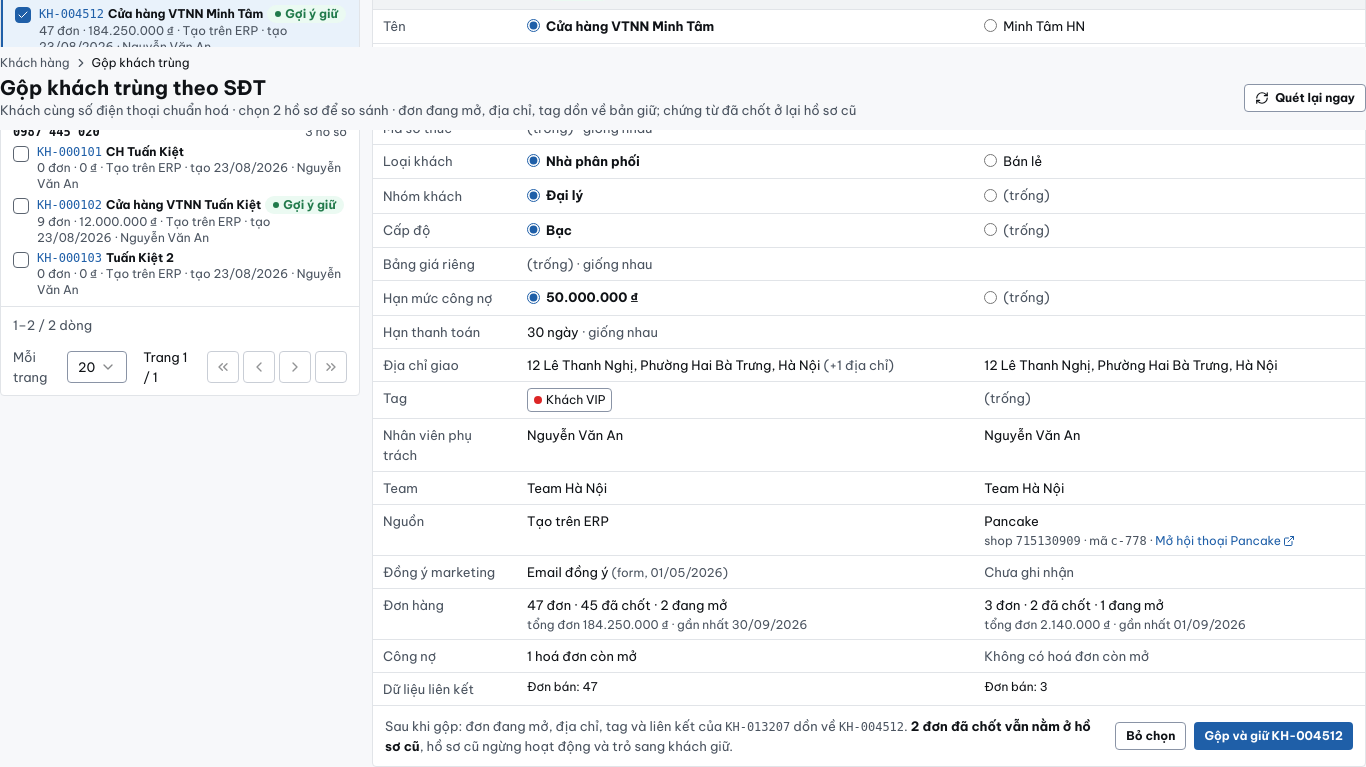
Test case: Gộp khách trùng — so sánh + gộp (CRM-10) › xác nhận → POST /customers/merge với fieldChoices + idempotencyKey → kết quả → hoàn tác
This screenshot has width=1366, height=767.
(page scrolled)
Click the button "Gộp và giữ KH-004512": (1274, 736) [1194,722,1353,750]
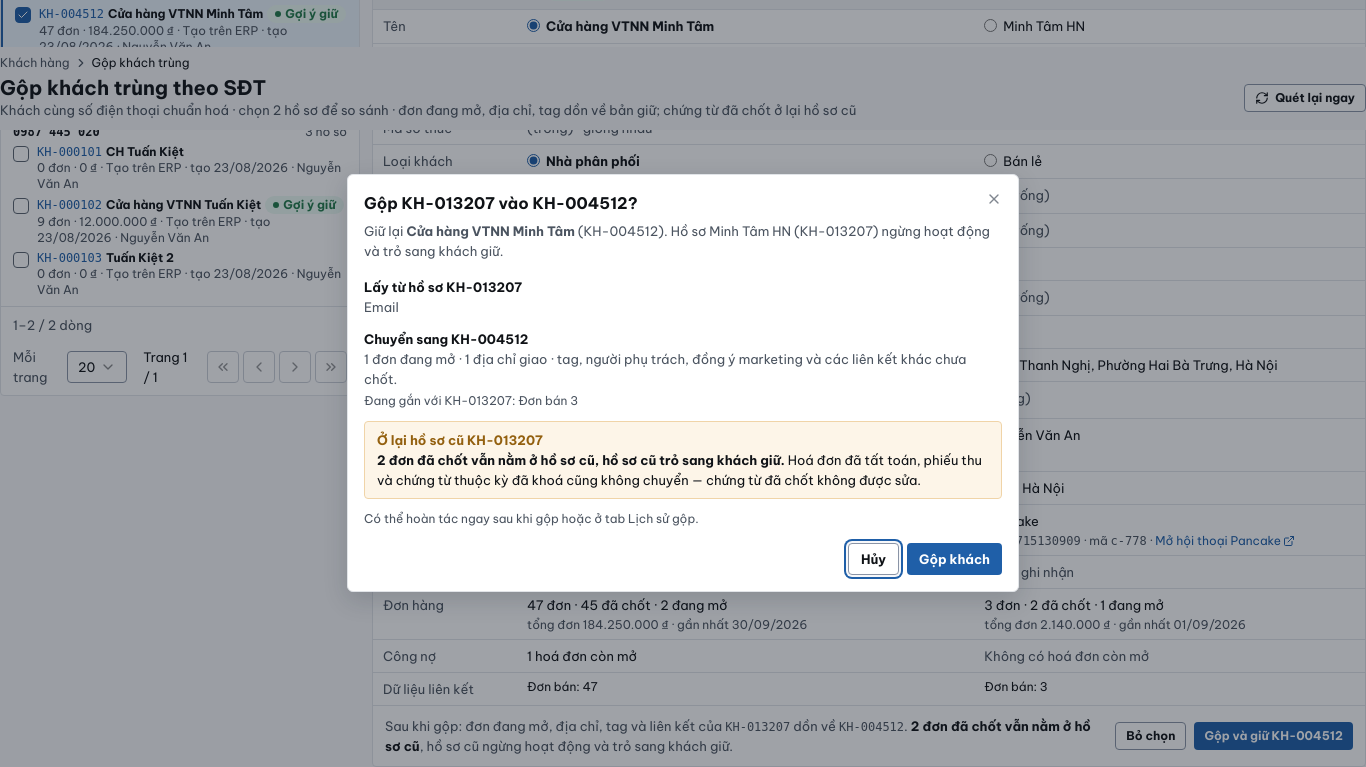
Expected: the heading "Gộp KH-013207 vào KH-004512?" is shown, [364,193,638,213]
Expected: the text "Email" is shown, [364,299,399,315]
Expected: the text "2 đơn đã chốt vẫn nằm ở hồ sơ cũ, hồ sơ cũ trỏ sang khách giữ." is shown, [377,452,785,468]
Click the button "Gộp khách": (955, 559) [907,543,1002,575]
(page scrolled)
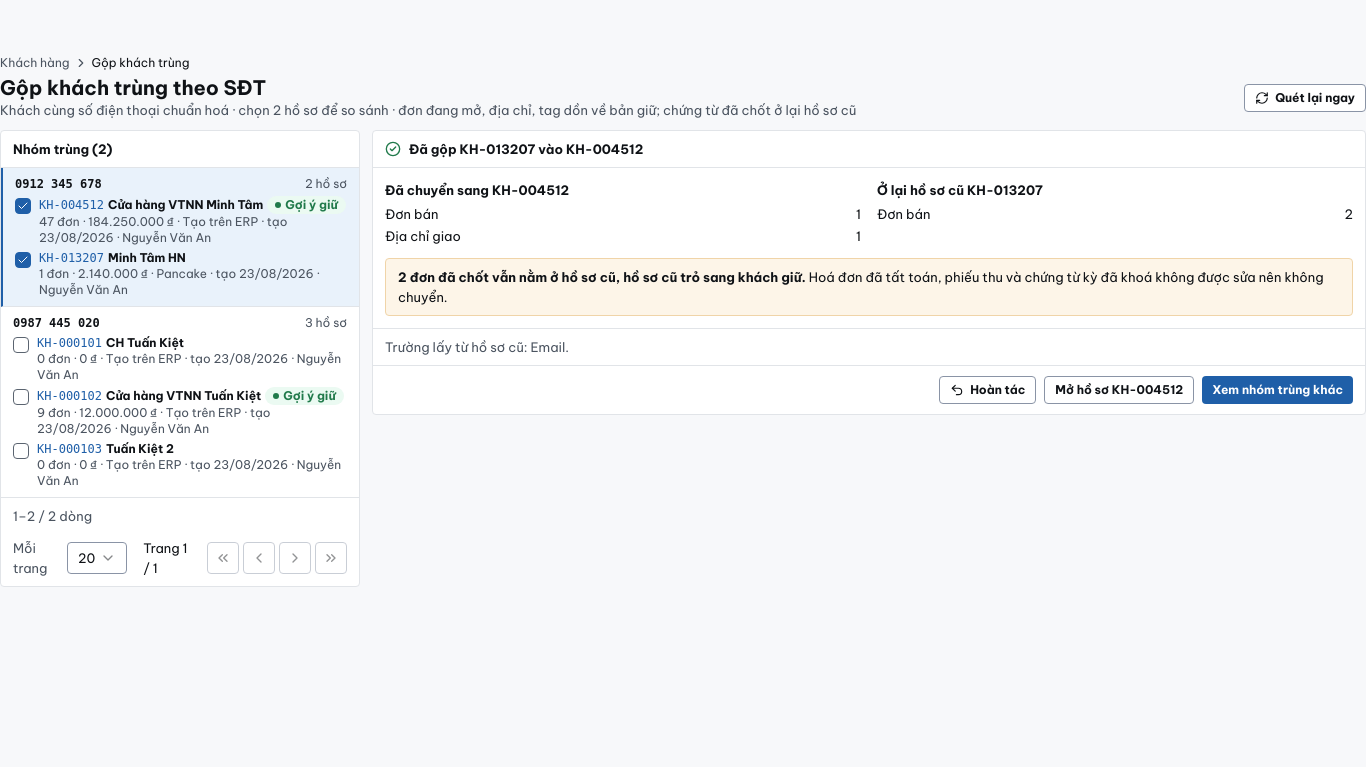
Expected: the text "2 đơn đã chốt vẫn nằm ở hồ sơ cũ, hồ sơ cũ trỏ sang khách giữ." is shown, [398,269,806,285]
Expected: the text "Đã gộp KH-013207 vào KH-004512" is shown, [373,131,1365,168]
Expected: the text "Trường lấy từ hồ sơ cũ: Email." is shown, [373,328,1365,365]
Click the button "Hoàn tác": (988, 390) [939,376,1036,404]
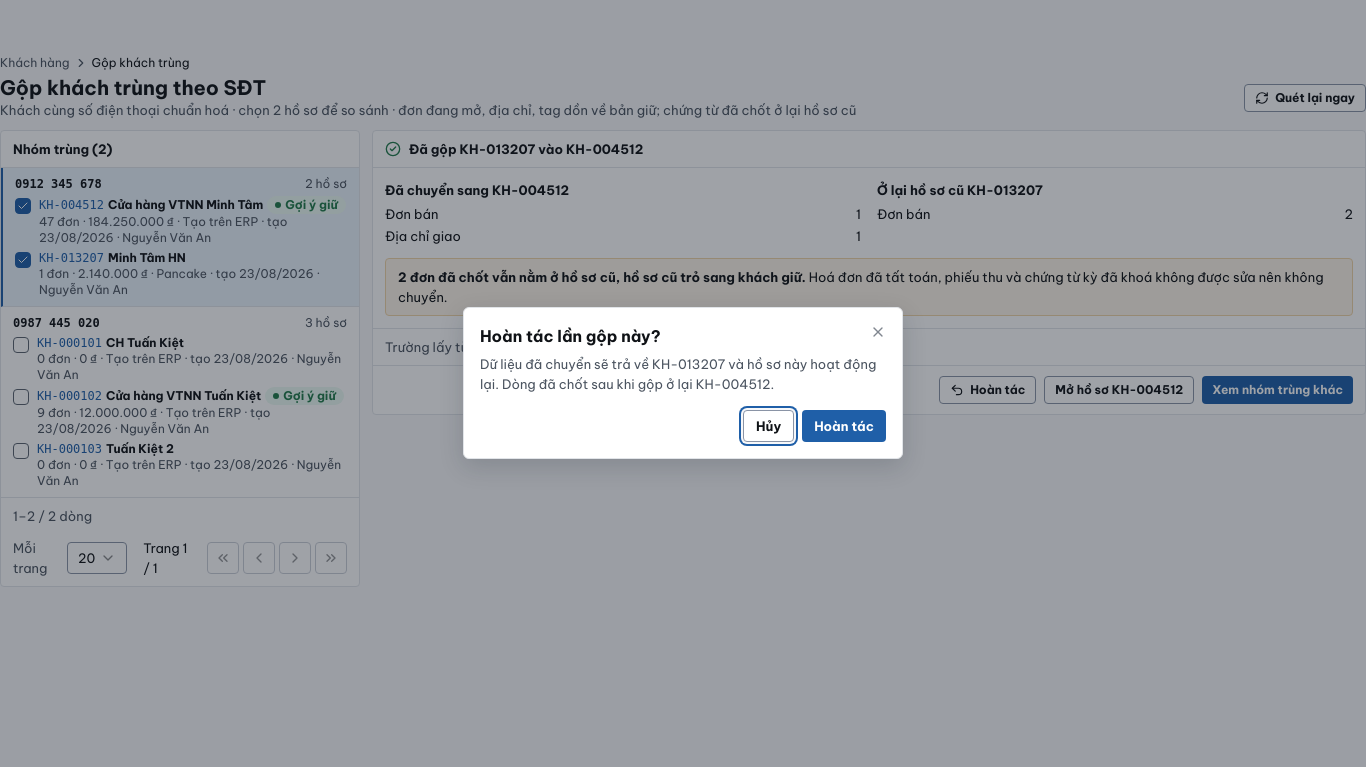
Click the button "Hoàn tác": (844, 426) [802,410,886,442]
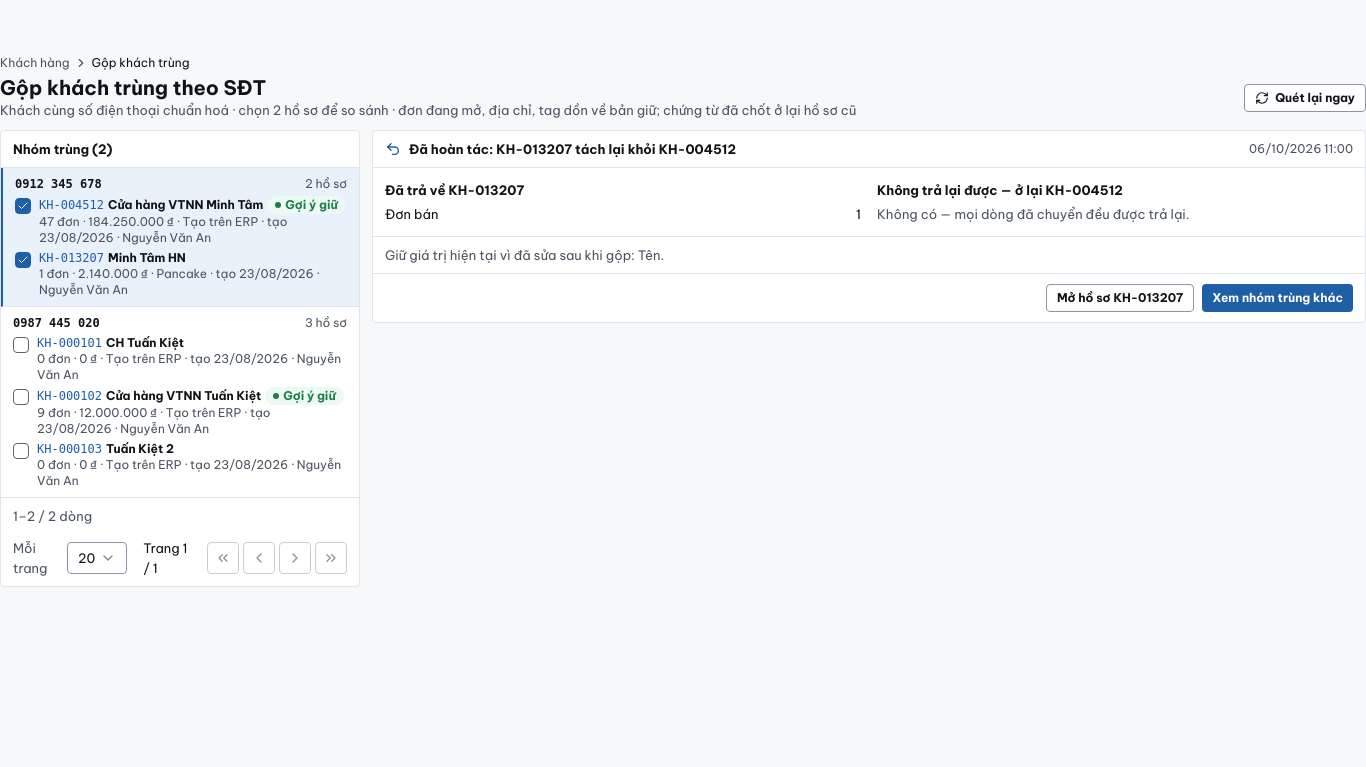
Expected: the text "Giữ giá trị hiện tại vì đã sửa sau khi gộp: Tên." is shown, [373,236,1365,273]
